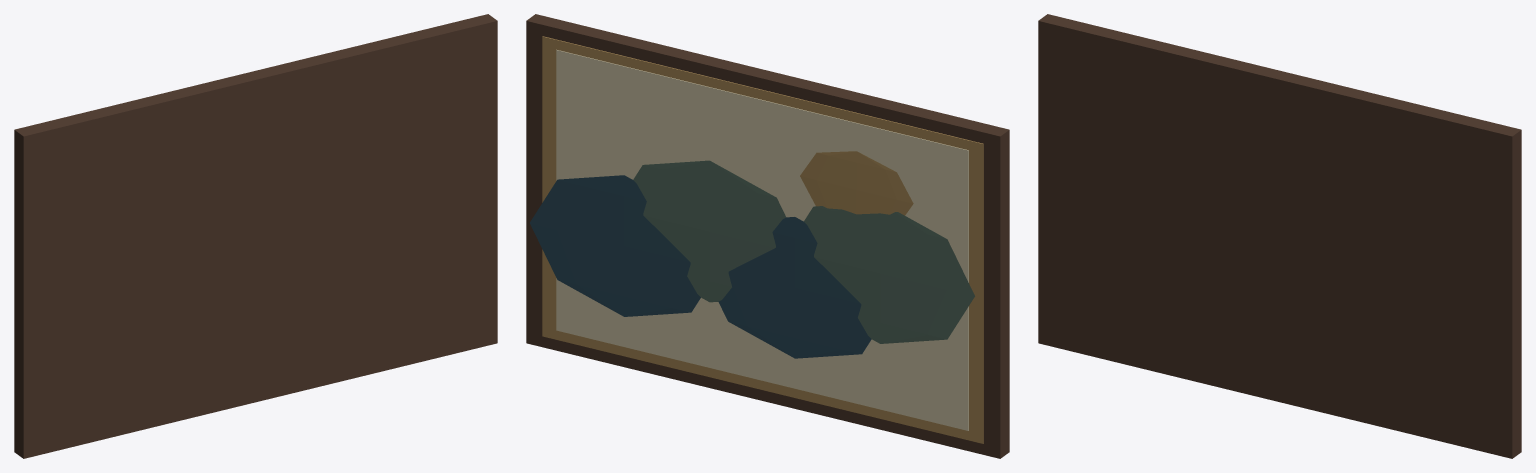
The model's file is LP_AsianHeritage_WallGraphic.fbx.
The picture shows the model from 3 angles, left to right: view 1: azimuth 30°, elevation 25°; view 2: azimuth 150°, elevation 25°; view 3: azimuth 330°, elevation 25°; orthographic projection.
Parts seen in each view (by area): view 1: Walnut; view 2: WarmIvory, M_Museum_DeepBlue, Walnut, SageUpholstery, AgedBrass; view 3: Walnut.
Part boxes in pixels (left/top/right/bottom): Walnut: left=14, top=14, right=497, bottom=458; WarmIvory: left=556, top=49, right=968, bottom=430; M_Museum_DeepBlue: left=530, top=175, right=871, bottom=358; Walnut: left=526, top=14, right=1009, bottom=458; SageUpholstery: left=633, top=160, right=974, bottom=343; AgedBrass: left=542, top=36, right=983, bottom=443; Walnut: left=1038, top=14, right=1521, bottom=458.
Size of the model in its own units: 200 by 130 by 8.
